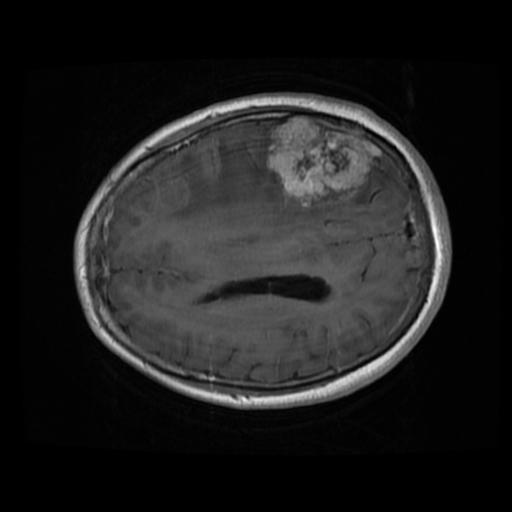meningioma: (266, 116, 382, 200)
